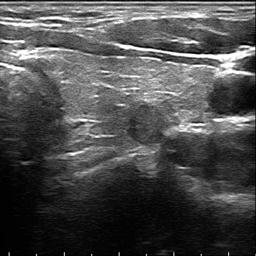mass: (126, 92, 177, 143)
